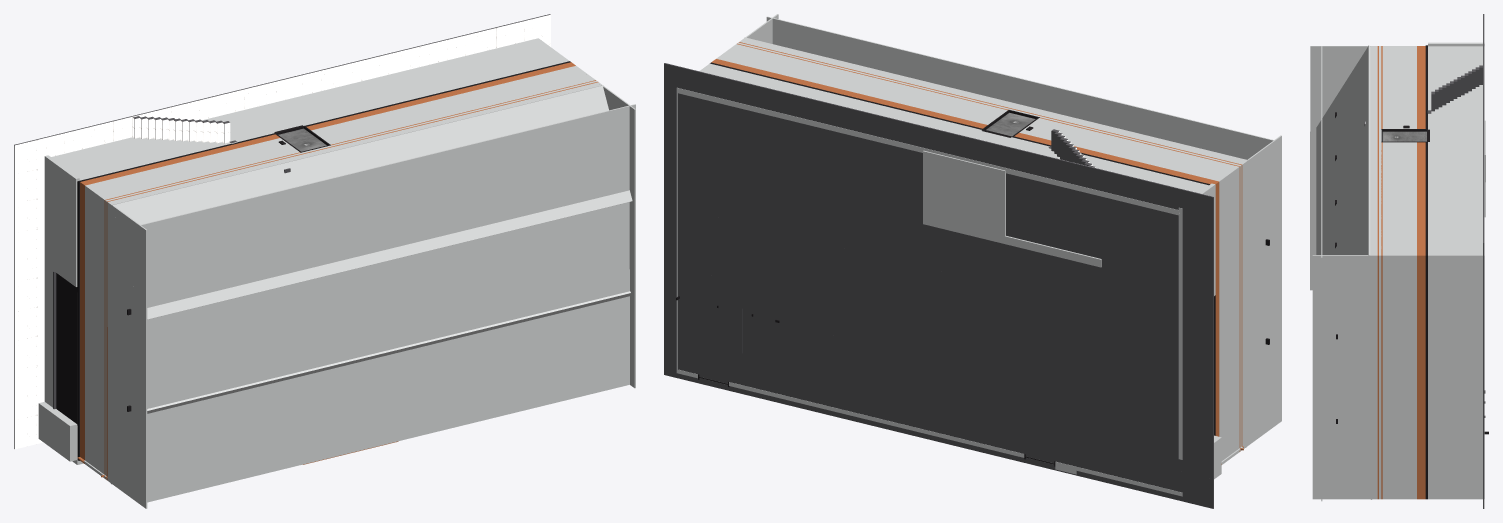
Rendered from scp_cafeteria.fbx.
The picture shows the model from 3 angles, left to right: view 1: azimuth 30°, elevation 25°; view 2: azimuth 150°, elevation 25°; view 3: azimuth 270°, elevation 25°; orthographic projection. The views are drawn at different scales.
Visible parts, largest first — view 1: Object_20, Object_15, Object_18, Object_16, Object_14, Object_17; view 2: Object_14, Object_20, Object_18, Object_17; view 3: Object_20, Object_18, Object_14, Object_17, Object_11, Object_16.
Part boxes in pixels (x1=…): Object_20: x1=38, y1=38, x2=635, y2=508; Object_15: x1=14, y1=14, x2=550, y2=449; Object_18: x1=77, y1=62, x2=598, y2=480; Object_16: x1=56, y1=126, x2=330, y2=425; Object_14: x1=14, y1=14, x2=550, y2=448; Object_17: x1=77, y1=61, x2=570, y2=460; Object_14: x1=664, y1=63, x2=1213, y2=508; Object_20: x1=676, y1=14, x2=1281, y2=496; Object_18: x1=711, y1=42, x2=1243, y2=464; Object_17: x1=676, y1=62, x2=1215, y2=464; Object_20: x1=1310, y1=42, x2=1485, y2=501; Object_18: x1=1377, y1=46, x2=1425, y2=499; Object_14: x1=1364, y1=14, x2=1484, y2=508; Object_17: x1=1425, y1=45, x2=1488, y2=499; Object_11: x1=1382, y1=131, x2=1426, y2=141; Object_16: x1=1381, y1=129, x2=1427, y2=142.
Size of the model in its own units: 88.2 by 47.83 by 29.1.
Materials: 20 (10 with a texture image).
